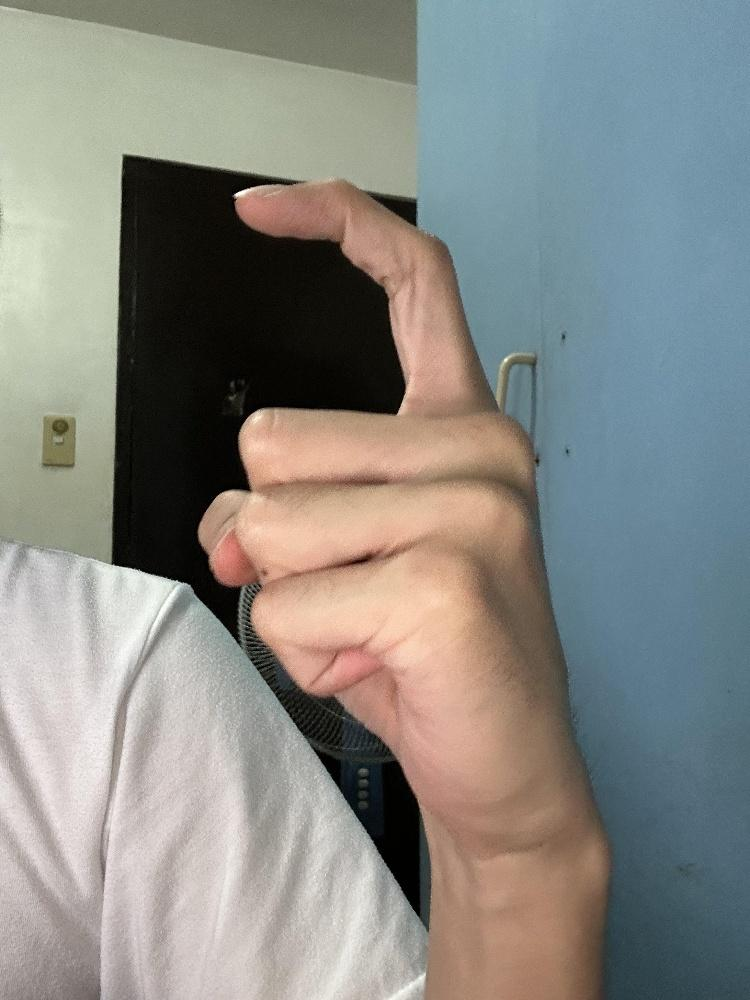x: (193, 169, 600, 857)
